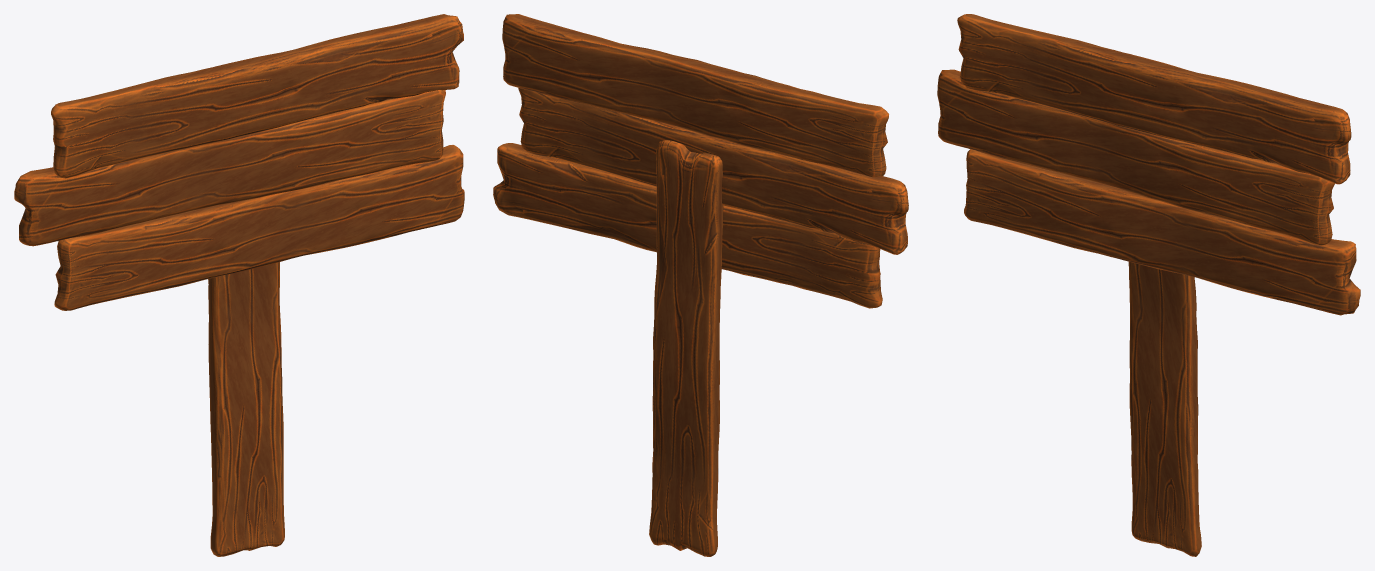
Rendered from SIGN_cheater.gltf.
3 views of the same model, side by side, from view 1: azimuth 30°, elevation 25°; view 2: azimuth 150°, elevation 25°; view 3: azimuth 330°, elevation 25° (orthographic). The views are drawn at different scales.
Visible parts, largest first — view 1: wooden_sign_cheater; view 2: wooden_sign_cheater; view 3: wooden_sign_cheater.
Part boxes in pixels (left/top/right/bottom): wooden_sign_cheater: left=14, top=14, right=464, bottom=556; wooden_sign_cheater: left=493, top=14, right=908, bottom=556; wooden_sign_cheater: left=937, top=14, right=1360, bottom=556.
Size of what is drawn, in the model's own units: 1.07 by 1.16 by 0.1086.
Materials: 1 (1 with a texture image).
